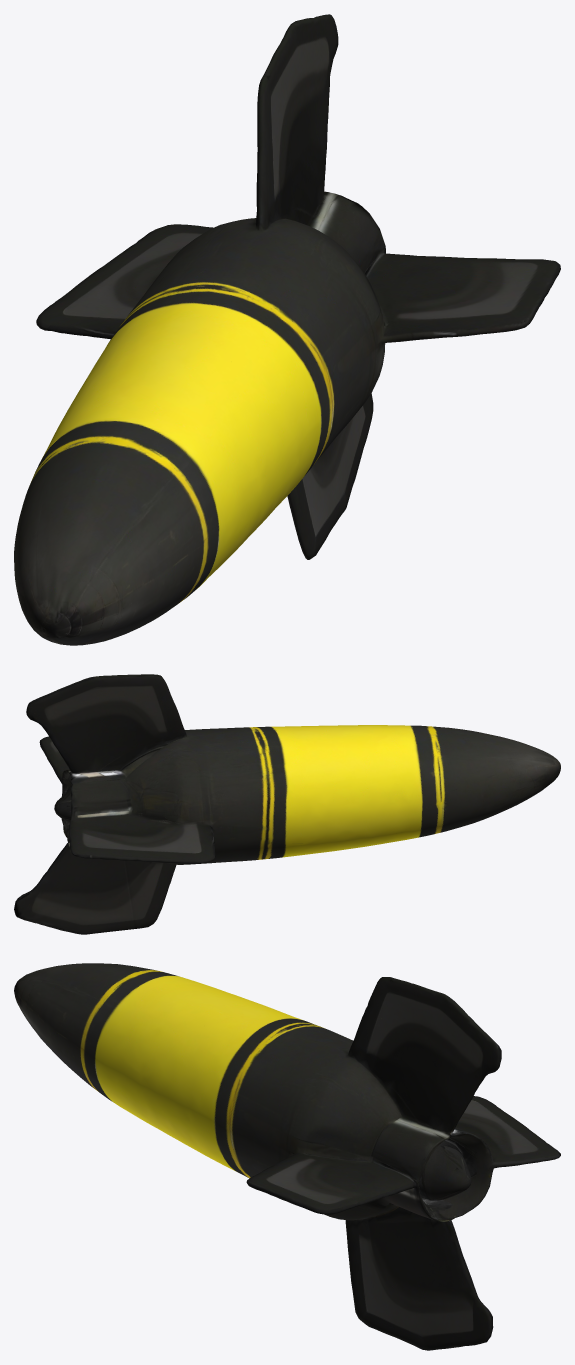
Rendered from Plutonio_antes.fbx.
3 renders of one model, top to bottom at view 1: azimuth 30°, elevation 25°; view 2: azimuth 150°, elevation 25°; view 3: azimuth 270°, elevation 25°, orthographic. The views are drawn at different scales.
Parts seen in each view (by area): view 1: Mesh_0.014; view 2: Mesh_0.014; view 3: Mesh_0.014.
Boxes of the visible parts, bbox=[...] form: Mesh_0.014: bbox=[14, 14, 560, 645]; Mesh_0.014: bbox=[14, 674, 560, 934]; Mesh_0.014: bbox=[14, 963, 560, 1350].
Size of the model in its own units: 0.4217 by 0.2692 by 0.3887.
1 material, 1 textured.
